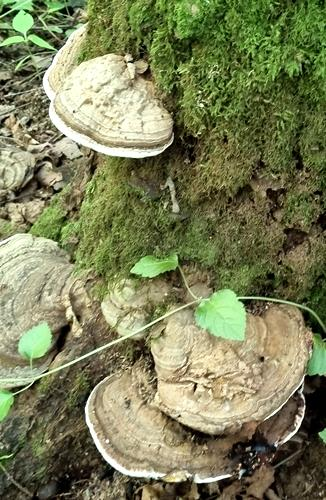Ganoderma - Fruit Body: (94, 270, 316, 484), (32, 10, 192, 167), (0, 218, 88, 396)
